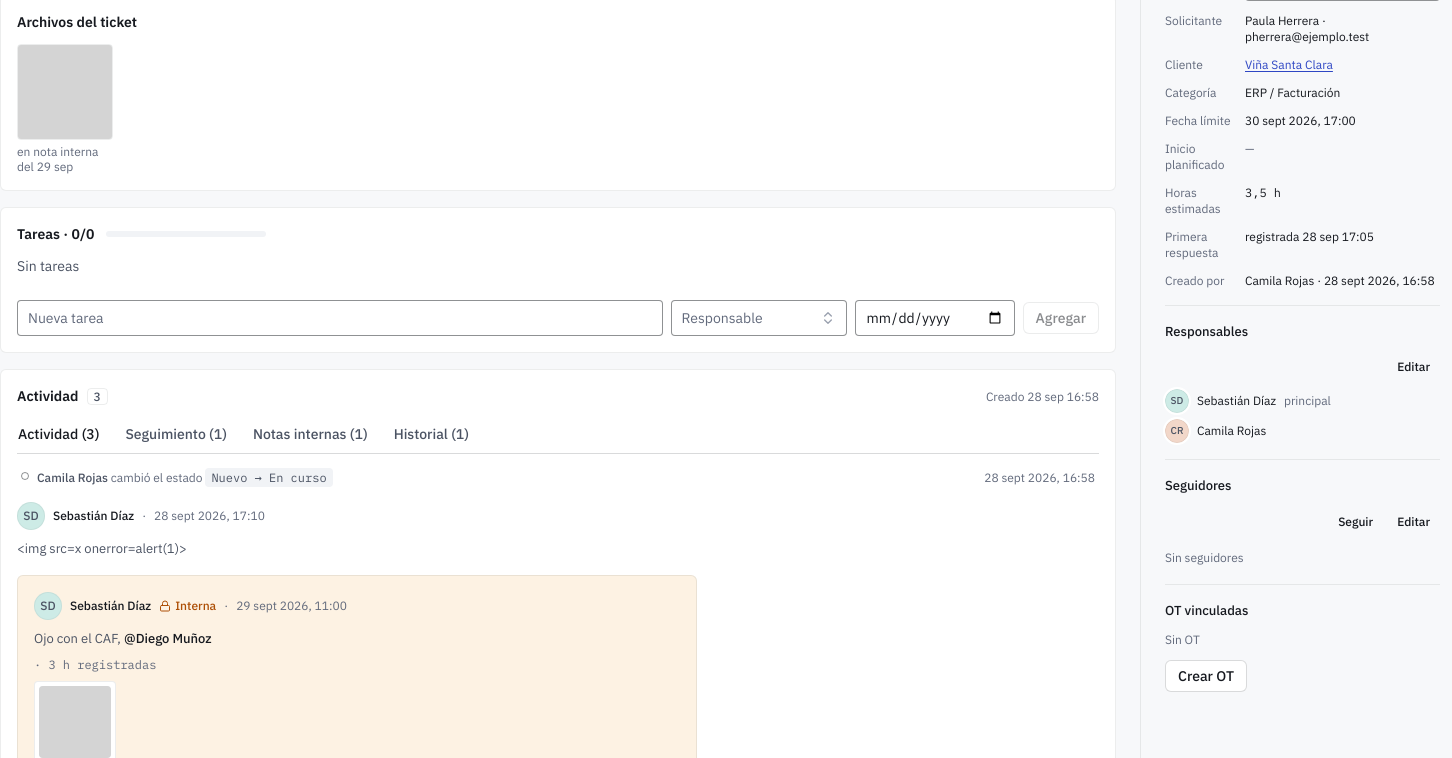
muestra las pestañas con sus conteos y filtra al cambiar
The width and height of the screenshot is (1452, 758).
(page scrolled)
Expected: the tab "Actividad (3)" is shown, [17,414,100,454]
Expected: the tab "Notas internas (1)" is shown, [252,414,369,454]
Click the tab "Seguimiento (1)" at [176, 434], box [124,412,228,456]
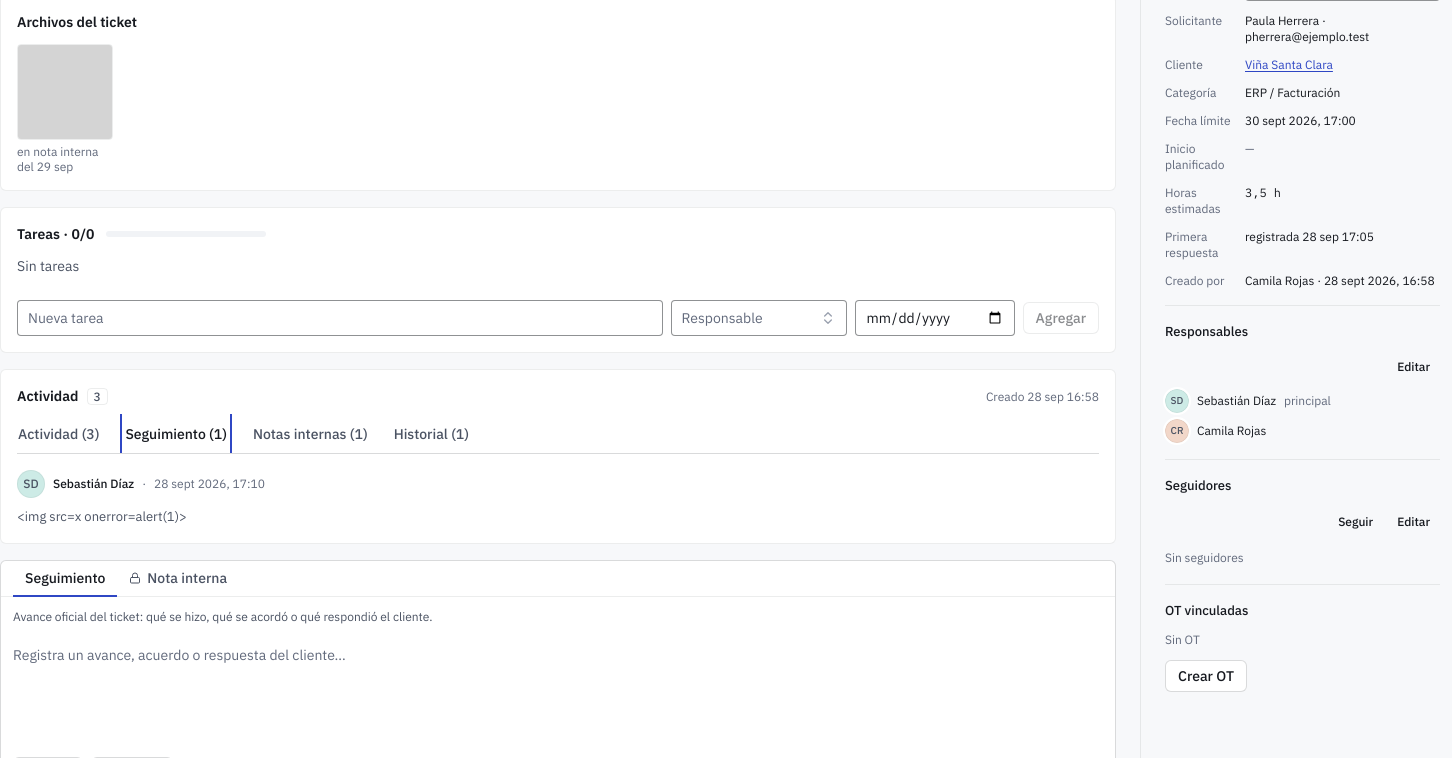
Expected: the text "<img src=x onerror=alert(1)>" is shown, [17,508,187,525]
Now the text "Ojo con el CAF" is gone
Click the tab "Historial (1)" at [431, 434], box [393,412,470,456]
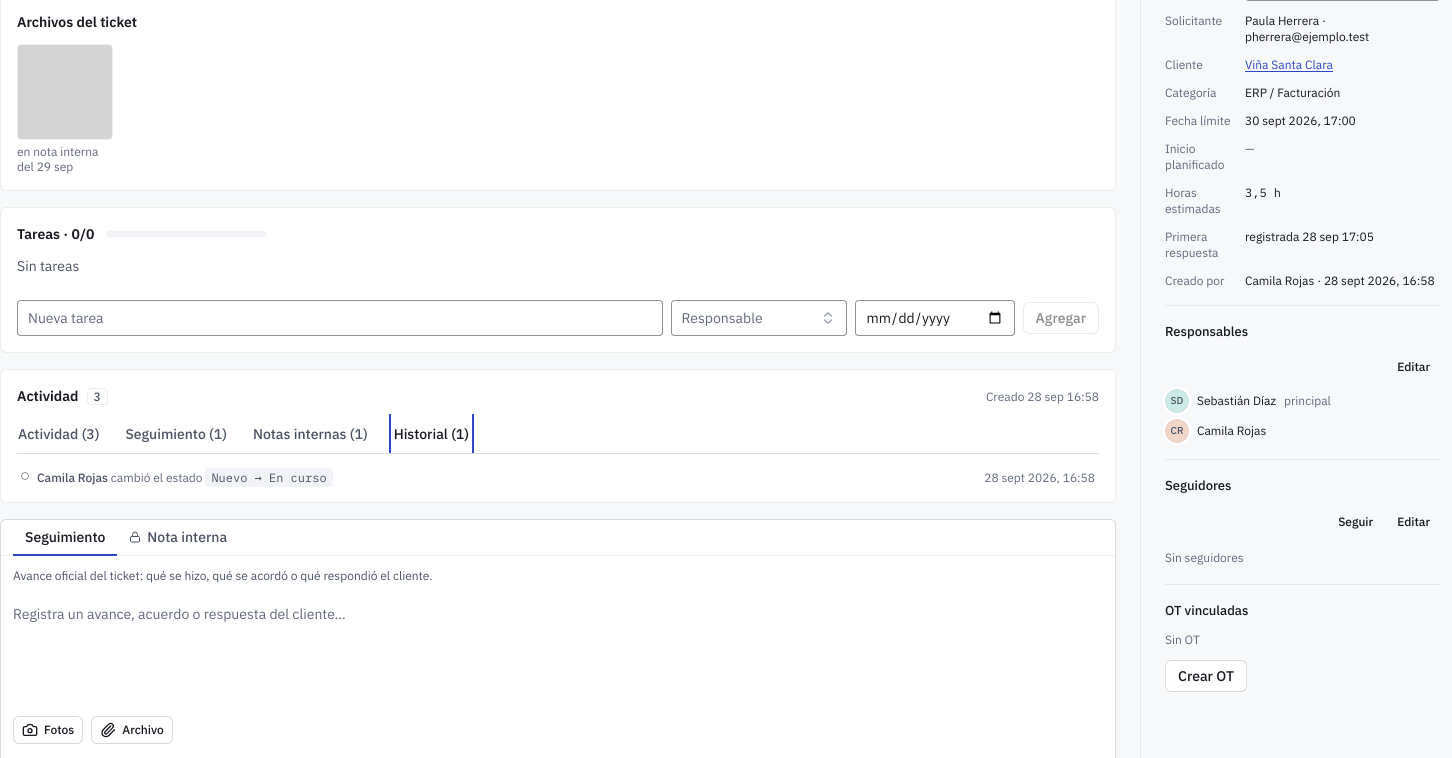
Now the text "cambió el estado" is shown, box [111,470,203,485]
Now the text "Nuevo → En curso" is shown, box [205,468,333,487]
